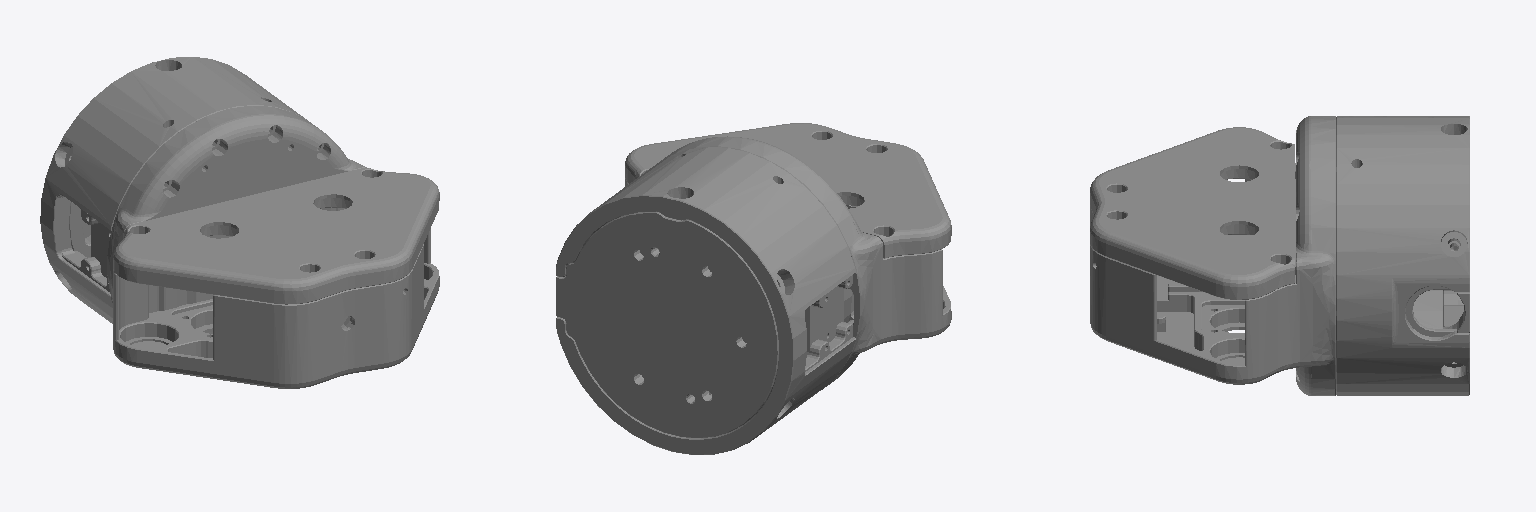
The picture shows the model from 3 angles: view 1: azimuth 30°, elevation 25°; view 2: azimuth 150°, elevation 25°; view 3: azimuth 270°, elevation 25°; orthographic projection.
Parts seen in each view (by area): view 1: astribot_gripper_base_link; view 2: astribot_gripper_base_link; view 3: astribot_gripper_base_link.
Boxes of the visible parts, <box> form: astribot_gripper_base_link: <box>40,57,439,388</box>; astribot_gripper_base_link: <box>556,123,951,454</box>; astribot_gripper_base_link: <box>1090,116,1469,395</box>.
Bounding box in the file's own units: 0.081 × 0.062 × 0.0841.